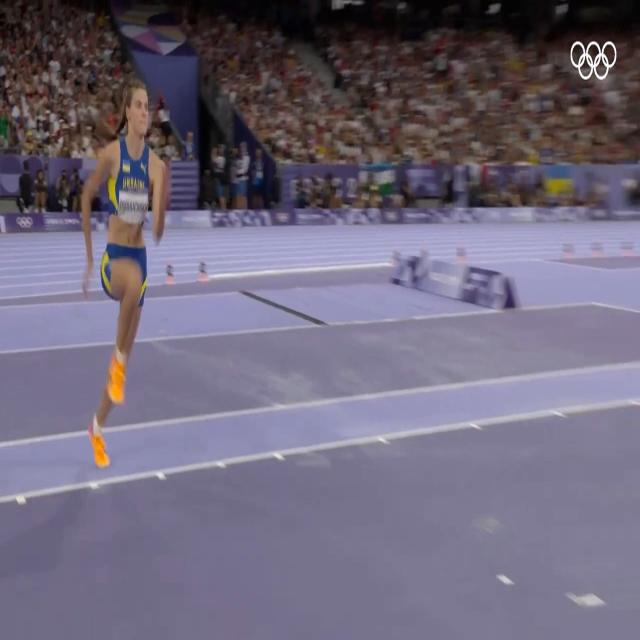run: (80, 78, 171, 471)
